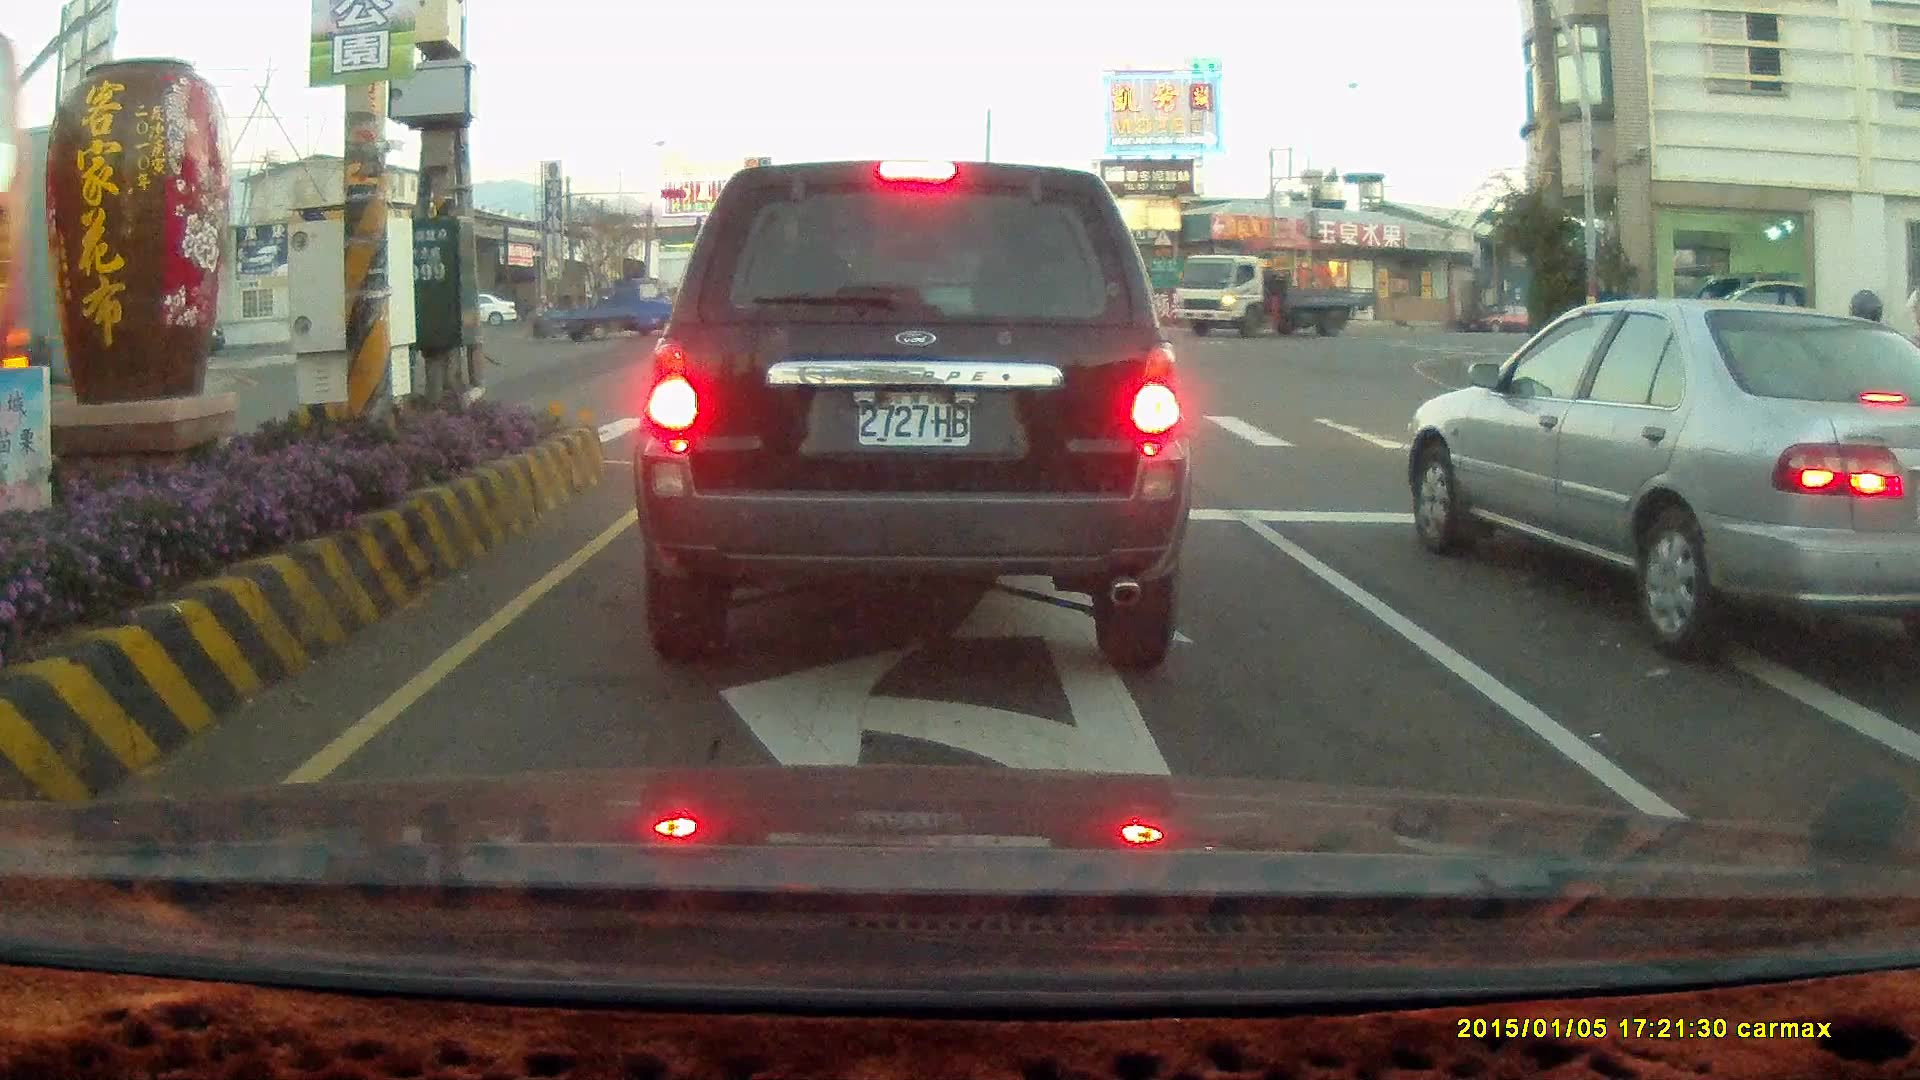rider: (529, 290, 558, 336)
vehicle: (629, 157, 1194, 676), (1392, 295, 1920, 654), (1408, 300, 1920, 654), (763, 254, 971, 343), (1170, 254, 1375, 343), (1651, 275, 1798, 362), (855, 278, 987, 366), (1896, 493, 1920, 836), (553, 275, 671, 343)
